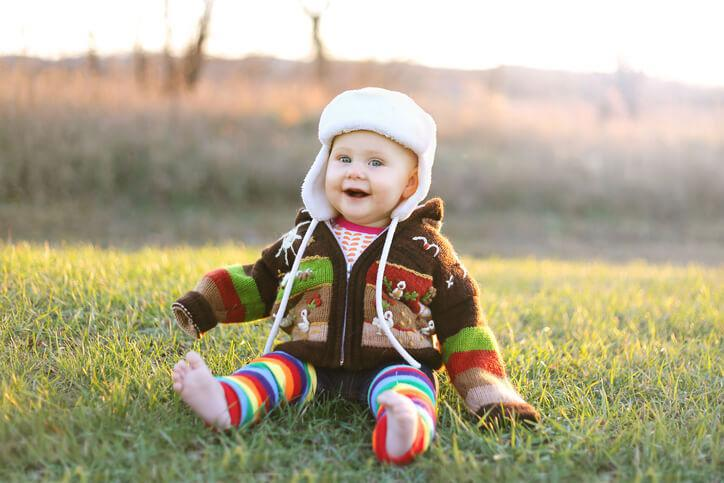child: (151, 80, 551, 462)
